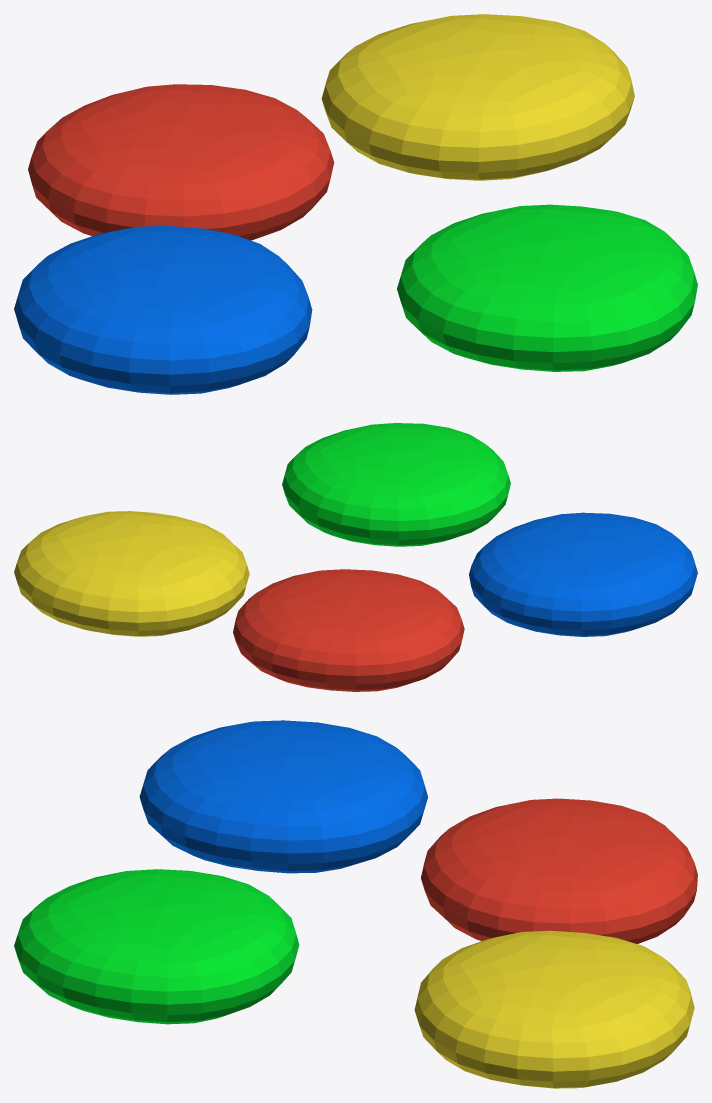
The picture shows the model from 3 angles, top to bottom: view 1: azimuth 30°, elevation 25°; view 2: azimuth 150°, elevation 25°; view 3: azimuth 270°, elevation 25°; orthographic projection. The views are drawn at different scales.
Visible parts, largest first — view 1: Circle_044, Circle, Circle_009, Circle_036; view 2: Circle_044, Circle_036, Circle_009, Circle; view 3: Circle_044, Circle_009, Circle, Circle_036.
Boxes of the visible parts, x1=… form: Circle_044: x1=321, y1=14, x2=634, y2=180; Circle: x1=397, y1=204, x2=697, y2=371; Circle_009: x1=14, y1=225, x2=312, y2=394; Circle_036: x1=28, y1=84, x2=334, y2=240; Circle_044: x1=14, y1=511, x2=249, y2=636; Circle_036: x1=233, y1=569, x2=464, y2=691; Circle_009: x1=469, y1=512, x2=697, y2=636; Circle: x1=282, y1=423, x2=510, y2=546; Circle_044: x1=414, y1=930, x2=694, y2=1088; Circle_009: x1=139, y1=720, x2=427, y2=873; Circle: x1=14, y1=869, x2=299, y2=1024; Circle_036: x1=421, y1=798, x2=697, y2=943.
Bounding box in the file's own units: 4.44 × 0.5912 × 3.88.
